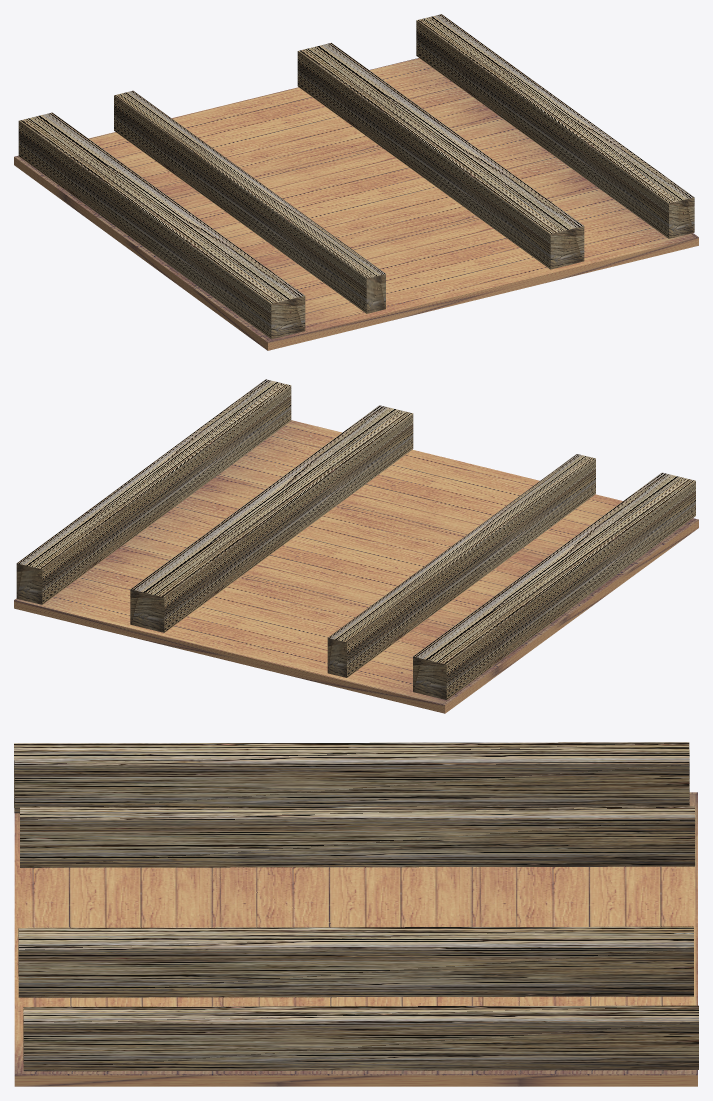
File: strecha_provizorní.fbx
3 renders of one model, top to bottom at view 1: azimuth 30°, elevation 25°; view 2: azimuth 150°, elevation 25°; view 3: azimuth 270°, elevation 25°, orthographic. The views are drawn at different scales.
Visible parts, largest first — view 1: pCube17, pCube38, pCube35, pCube36, pCube37; view 2: pCube17, pCube38, pCube35, pCube36, pCube37; view 3: pCube17, pCube38, pCube36, pCube35, pCube37.
Part boxes in pixels (bbox=[...]): pCube17: bbox=[14, 58, 698, 350]; pCube38: bbox=[297, 42, 584, 269]; pCube35: bbox=[18, 112, 305, 339]; pCube36: bbox=[416, 14, 694, 238]; pCube37: bbox=[114, 90, 385, 313]; pCube17: bbox=[14, 420, 698, 713]; pCube38: bbox=[130, 405, 413, 632]; pCube35: bbox=[413, 472, 695, 699]; pCube36: bbox=[16, 379, 291, 604]; pCube37: bbox=[327, 454, 595, 677]; pCube17: bbox=[14, 792, 697, 1086]; pCube38: bbox=[18, 926, 693, 997]; pCube36: bbox=[23, 1005, 698, 1071]; pCube35: bbox=[14, 742, 689, 813]; pCube37: bbox=[20, 806, 695, 867].
Bounding box in the file's own units: 27.01 × 2.77 × 27.61.
